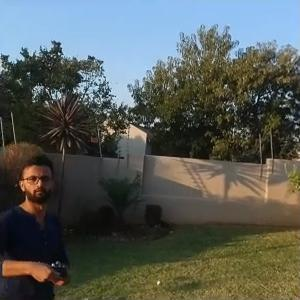follow: (0, 150, 74, 299)
